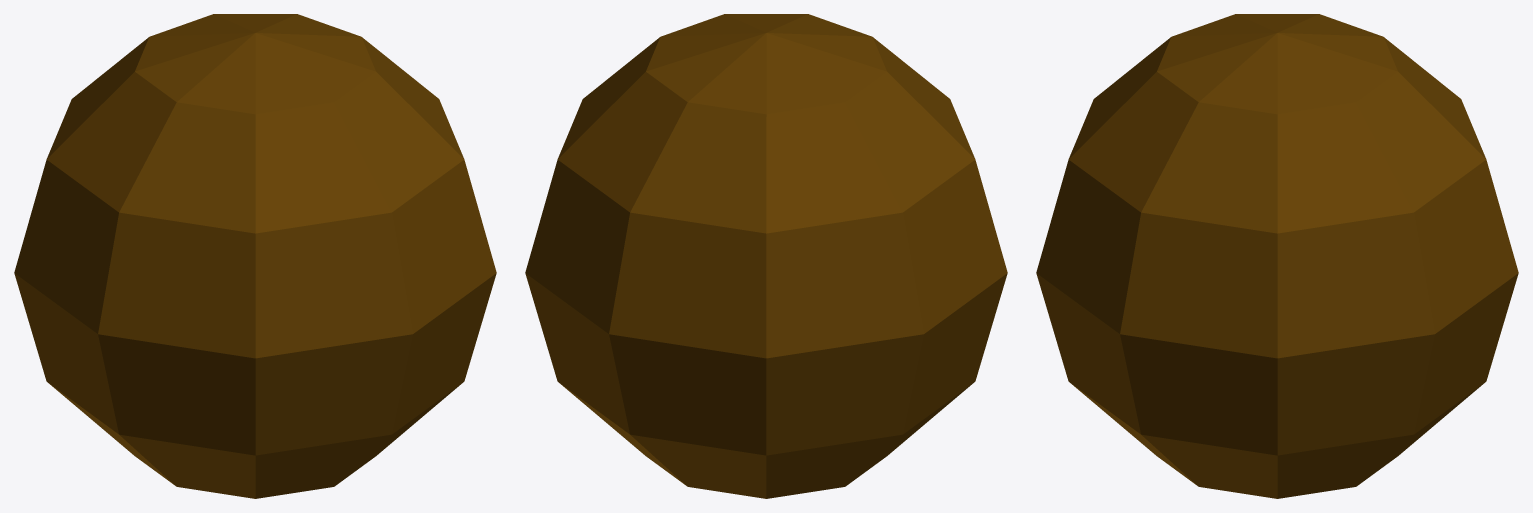
The model's file is _ock.fbx.
3 views of the same model, side by side, from view 1: azimuth 30°, elevation 25°; view 2: azimuth 150°, elevation 25°; view 3: azimuth 270°, elevation 25° (orthographic).
Visible parts, largest first — view 1: pSphere1; view 2: pSphere1; view 3: pSphere1.
Boxes of the visible parts, x1=… form: pSphere1: x1=14, y1=14, x2=496, y2=498; pSphere1: x1=525, y1=14, x2=1007, y2=498; pSphere1: x1=1036, y1=14, x2=1518, y2=498.
Bounding box in the file's own units: 1.94 × 2 × 1.97.
